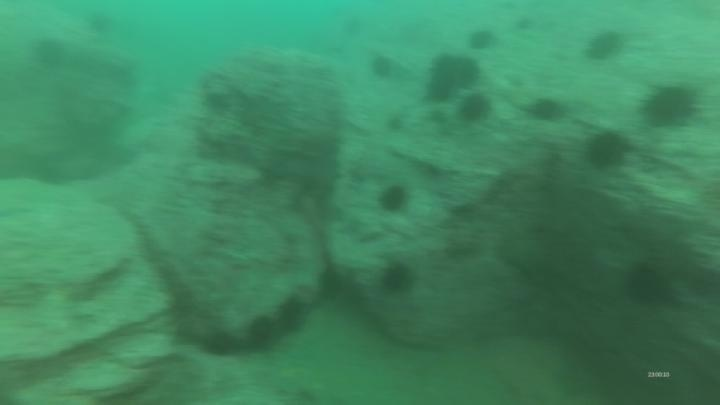echinus: (639, 81, 701, 131), (622, 261, 672, 308), (582, 127, 631, 173), (433, 54, 481, 90), (582, 27, 626, 64), (377, 258, 417, 298), (274, 294, 310, 336), (243, 312, 280, 352), (524, 94, 568, 126), (29, 35, 68, 71), (200, 327, 240, 361), (375, 182, 412, 217), (456, 91, 493, 125), (316, 263, 348, 302), (423, 71, 457, 106), (83, 9, 118, 38), (465, 26, 498, 53), (368, 52, 397, 82)
